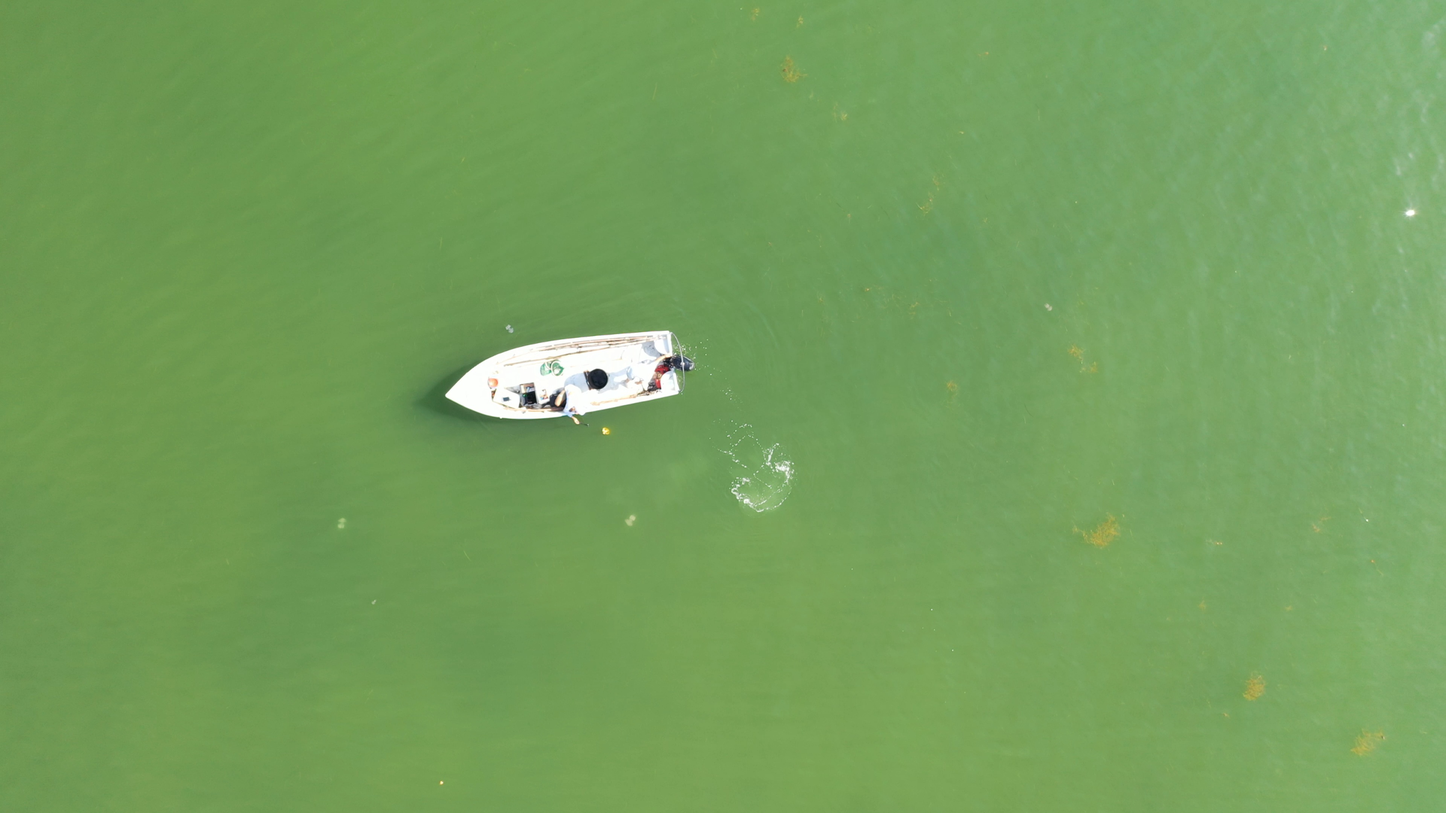meduse: (627, 515, 639, 525), (338, 519, 348, 530), (504, 324, 514, 334), (1044, 303, 1052, 313), (372, 598, 377, 605)
